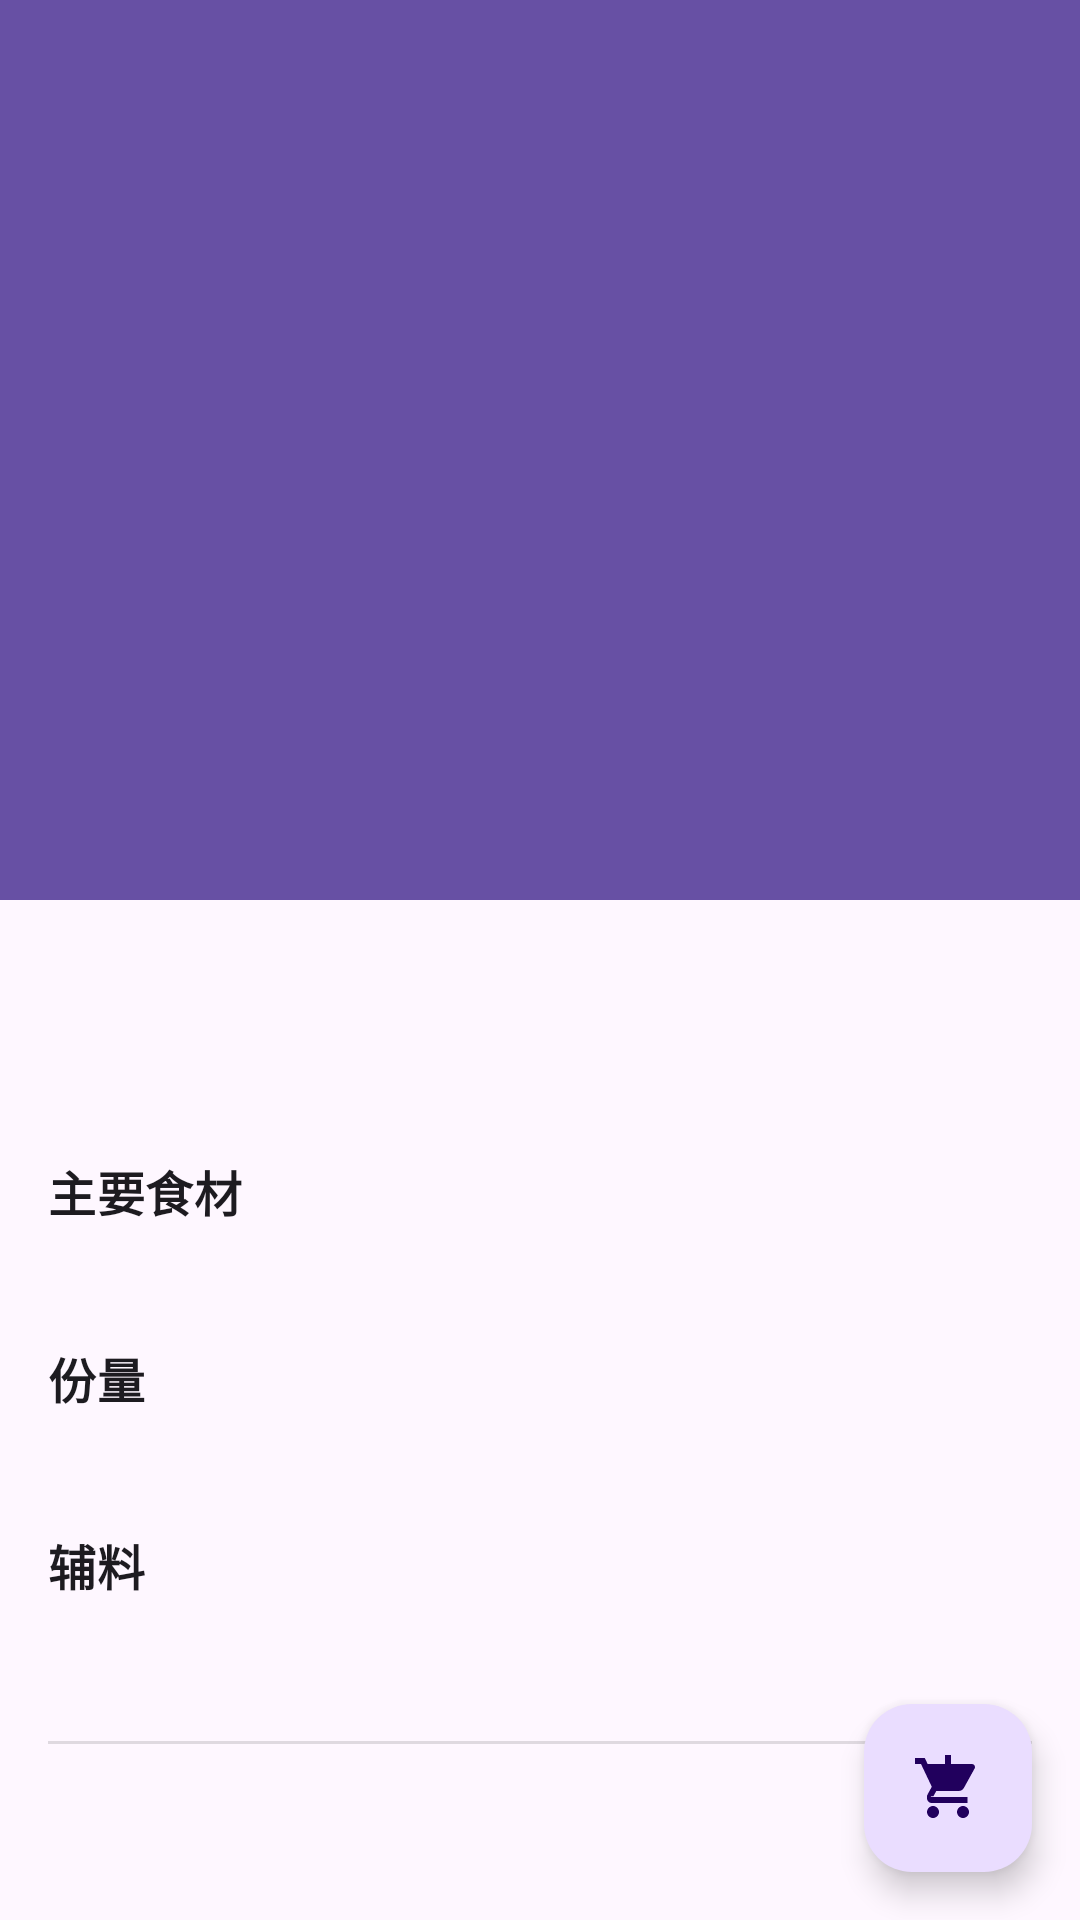

Point at icon controls on the screen. Image size 1080 × 1920, points as (x,y).
add shopping cart: (948,1788)
